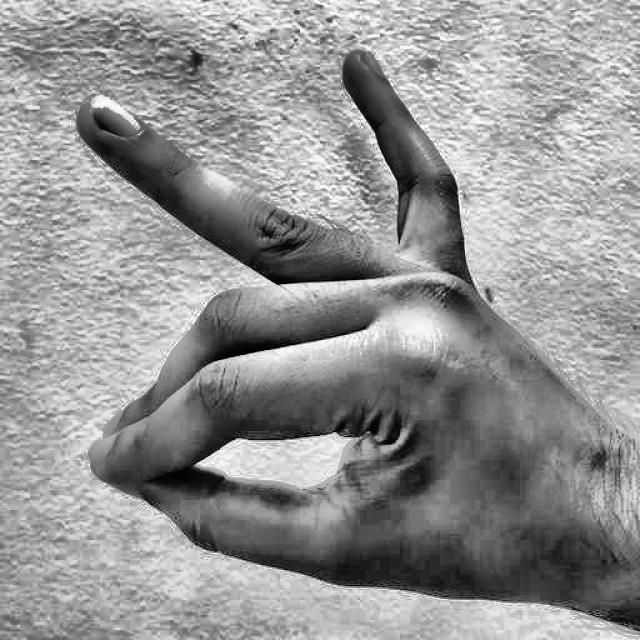Na: (59, 31, 587, 628)
